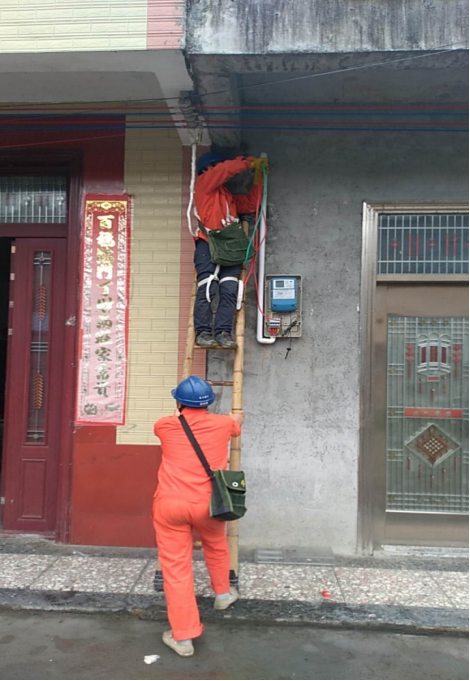downcloth: (193, 239, 244, 335)
halt: (172, 376, 217, 409), (195, 151, 226, 171)
hand: (227, 409, 247, 425)
longglove: (251, 162, 269, 188), (246, 157, 269, 170)
person: (147, 375, 243, 656), (184, 146, 269, 352)
safebelt: (184, 145, 248, 312)
ydownsuit: (150, 501, 237, 634)
yupsuit: (152, 405, 232, 500), (193, 155, 264, 237)
